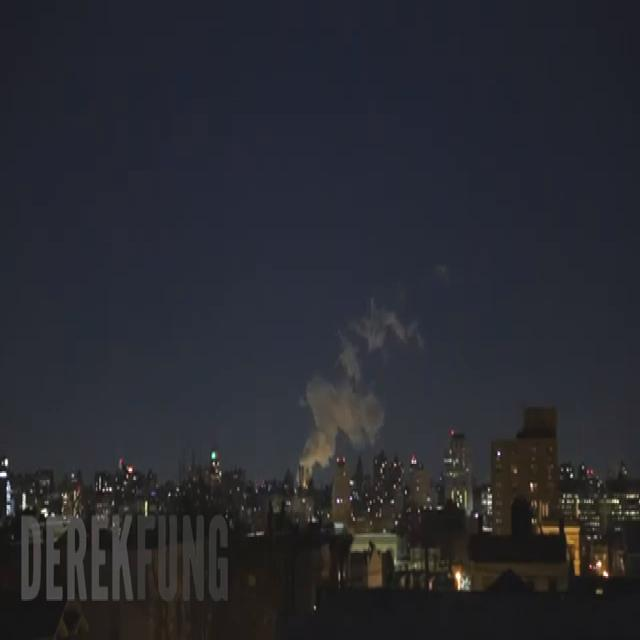smoke: (299, 299, 424, 484)
